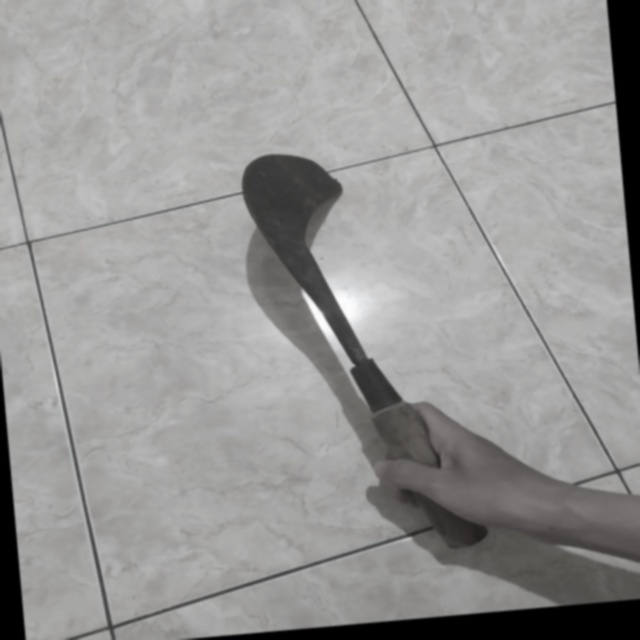Sharp-Object: (223, 128, 531, 593)
